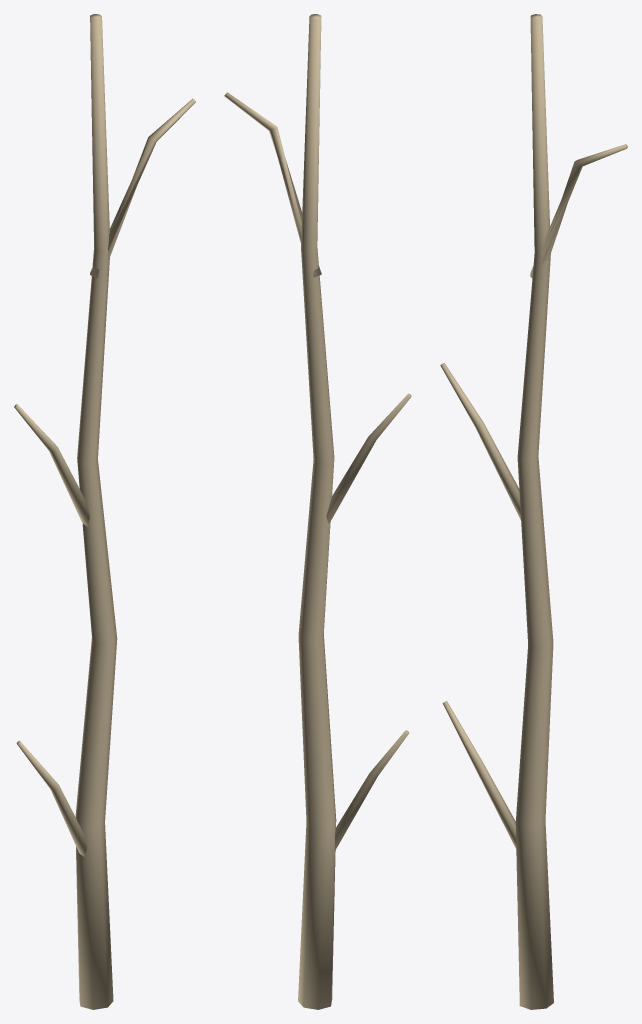
The model's file is trunk_b.glb.
The picture shows the model from 3 angles, left to right: view 1: azimuth 30°, elevation 25°; view 2: azimuth 150°, elevation 25°; view 3: azimuth 330°, elevation 25°; orthographic projection.
Visible parts, largest first — view 1: WB002V2_SecondTrunk.005; view 2: WB002V2_SecondTrunk.005; view 3: WB002V2_SecondTrunk.005.
Boxes of the visible parts, bbox=[...] form: WB002V2_SecondTrunk.005: bbox=[14, 14, 195, 1009]; WB002V2_SecondTrunk.005: bbox=[224, 14, 411, 1009]; WB002V2_SecondTrunk.005: bbox=[440, 14, 627, 1009].
Bounding box in the file's own units: 7.4 × 38.03 × 1.37.
